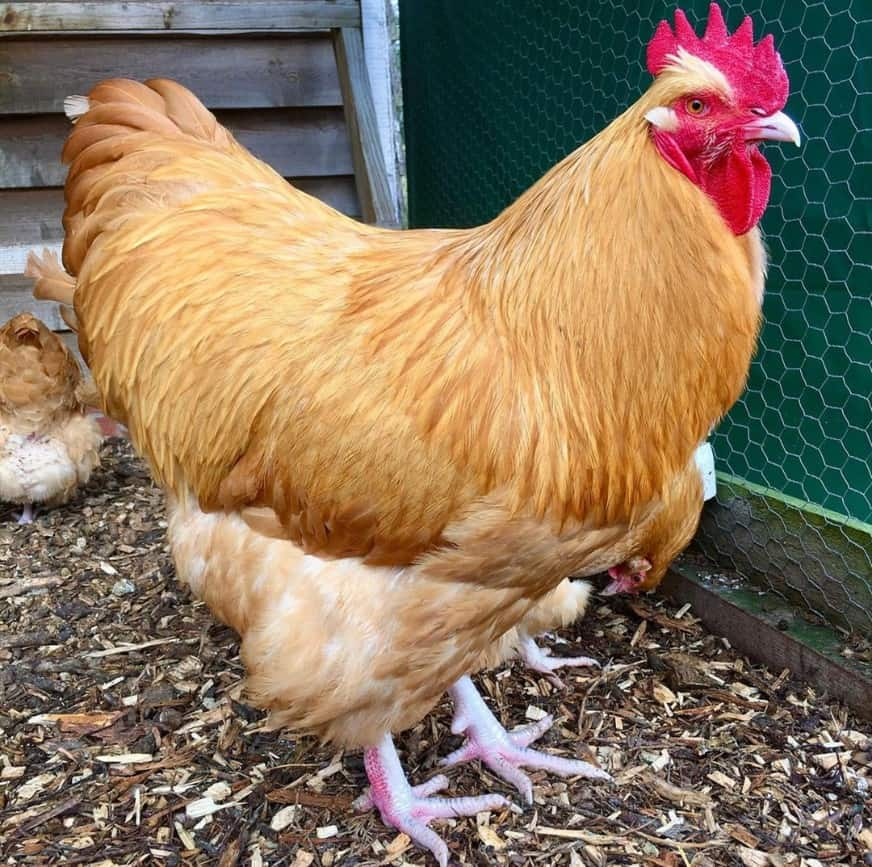buff: (104, 13, 814, 867)
